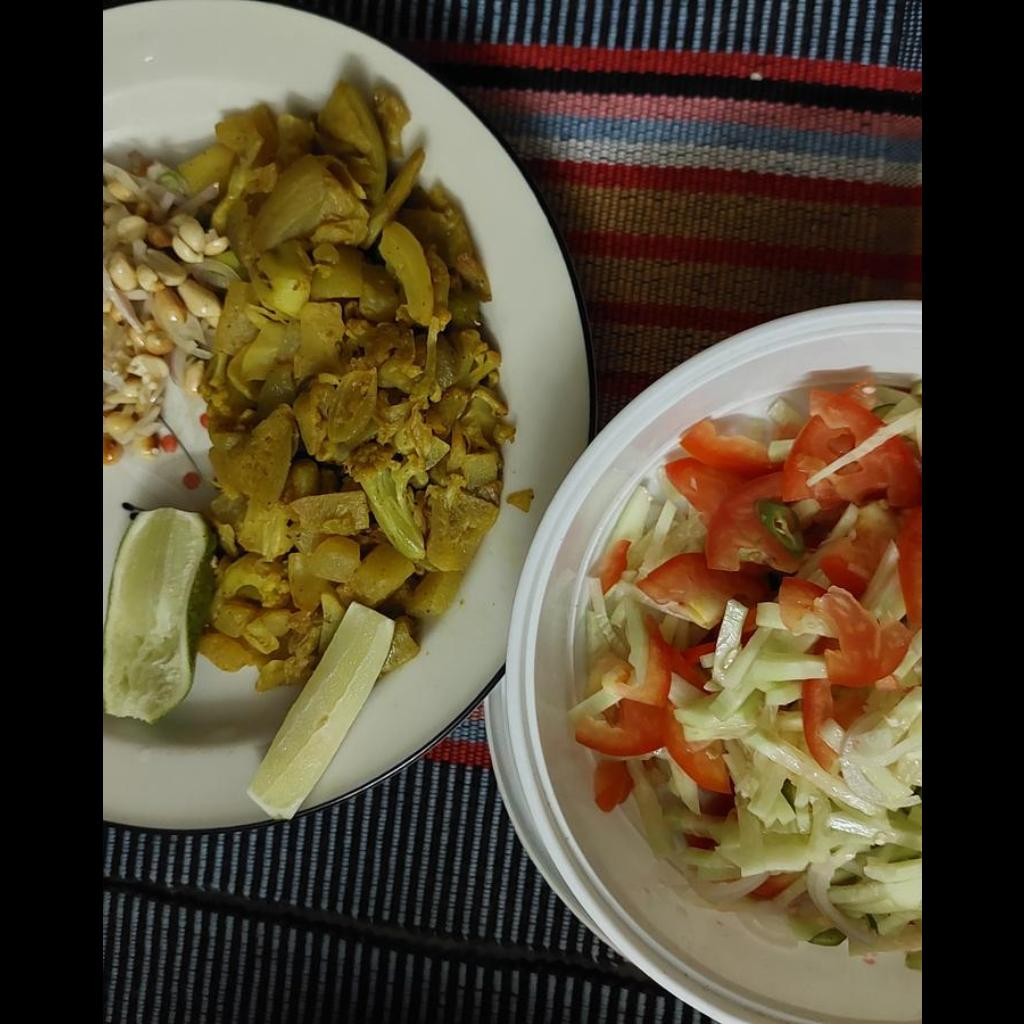badam: (102, 165, 230, 465)
lemon: (103, 507, 394, 814)
salad: (560, 369, 920, 972)
vegetable: (196, 84, 512, 686)
